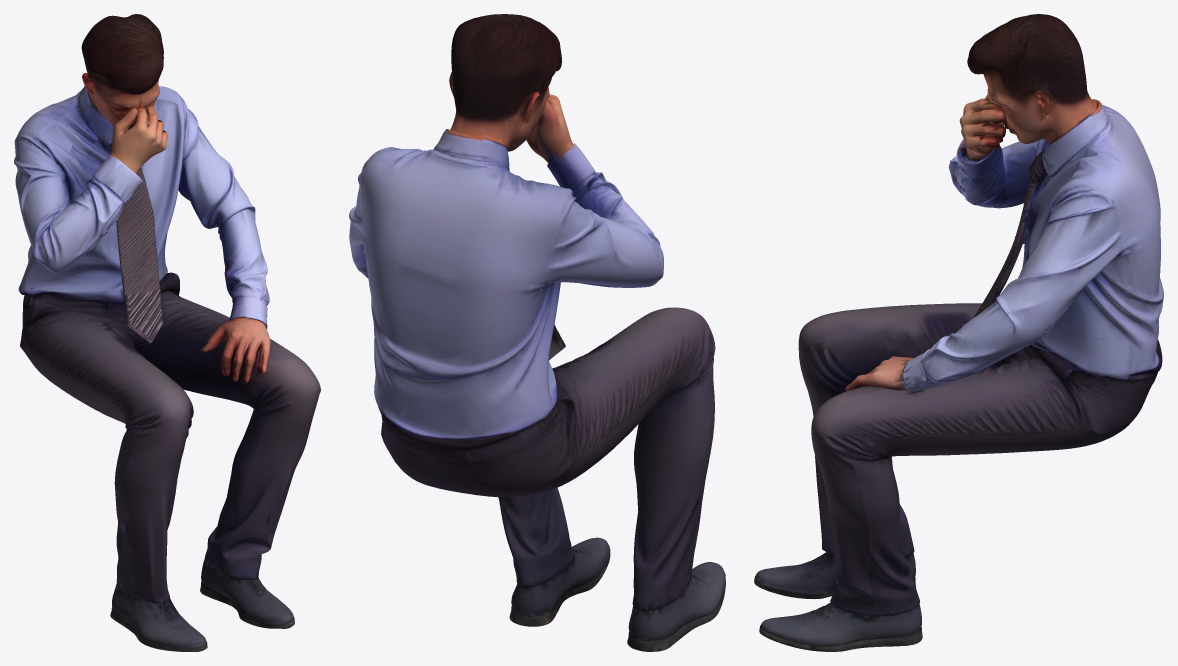
The model's file is interviewee-mobile.glb.
The picture shows the model from 3 angles, left to right: view 1: azimuth 30°, elevation 25°; view 2: azimuth 150°, elevation 25°; view 3: azimuth 270°, elevation 25°; orthographic projection. The views are drawn at different scales.
Parts seen in each view (by area): view 1: node_0; view 2: node_0; view 3: node_0.
Boxes of the visible parts, <box> form: node_0: <box>14,14,320,651</box>; node_0: <box>349,14,725,651</box>; node_0: <box>754,14,1163,651</box>.
Size of the model in its own units: 0.4673 by 1.03 by 0.6365.
Materials: 1 (1 with a texture image).
